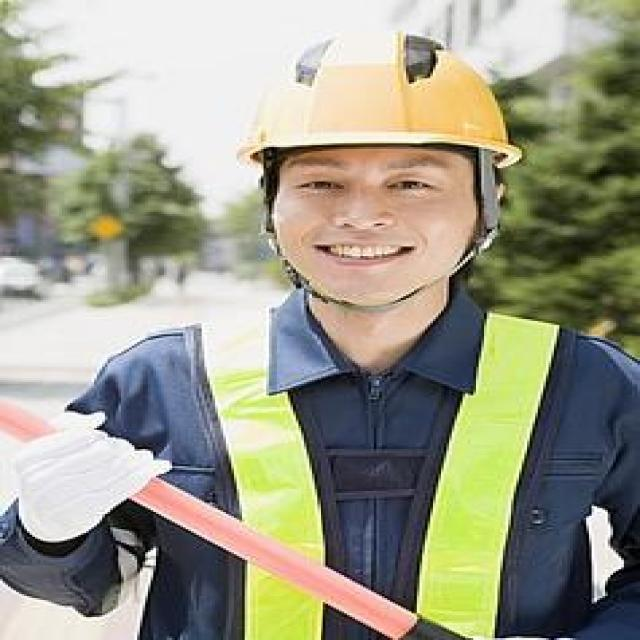Reflective-Jacket: (156, 302, 592, 640)
Safety-Helmet: (237, 27, 524, 170)
